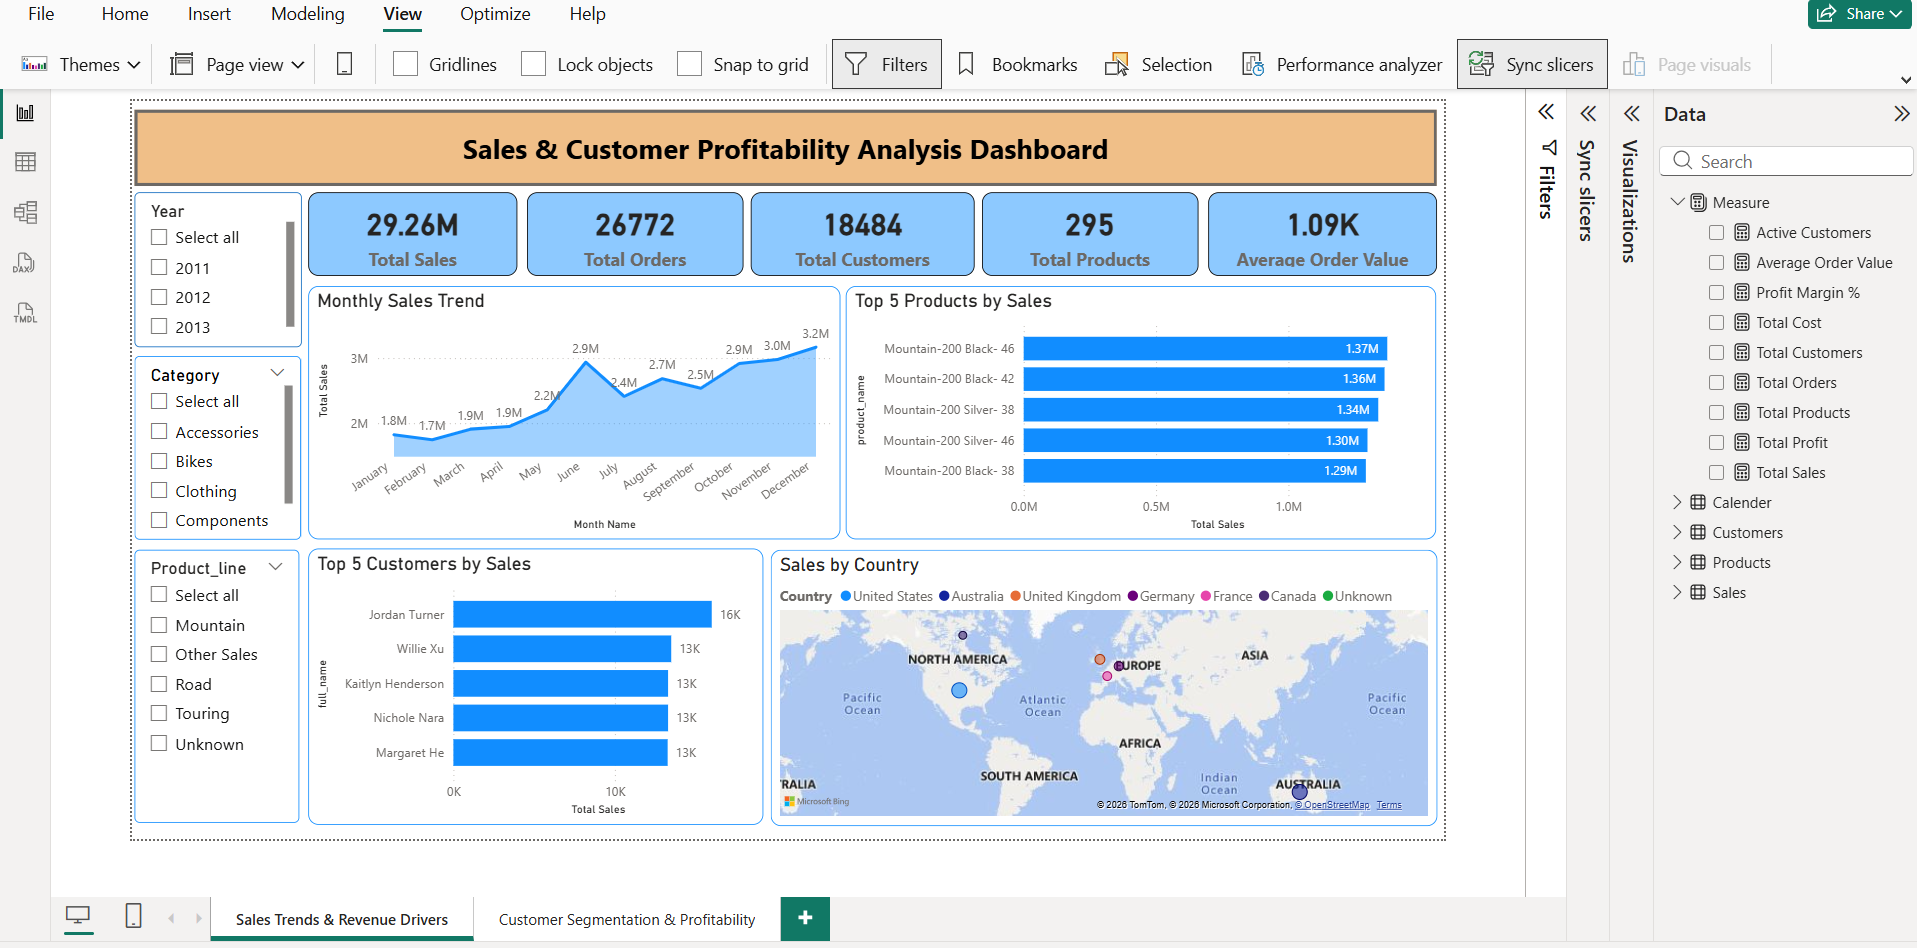

What the dashboard file says about the page in this screenshot:
{"tool":"powerbi","page":{"name":"Sales Trends & Revenue Drivers","canvas":[1280,720],"ordinal":0},"visuals":[{"type":"card","fields":{"Values":["Measure.Total Orders"]},"box":[401.1,84.4,193.2,85.6],"z":0},{"type":"card","fields":{"Values":["Measure.Total Products"]},"box":[1077.3,84.4,189.5,85.6],"z":1000},{"type":"card","fields":{"Values":["Measure.Total Sales"]},"box":[193.2,84.4,195.7,85.6],"z":2000},{"type":"card","fields":{"Values":["Measure.Average Order Value"]},"box":[606.5,83.2,253.1,85.6],"z":3000},{"type":"areaChart","title":"Monthly Sales Trend","fields":{"Category":["Calender.Month Name"],"Y":["Measure.Total Sales"]},"box":[188.3,436.6,564.9,271.5],"z":4000},{"type":"clusteredBarChart","title":"Top 5 Customers by Sales","fields":{"Category":["Customers.full_name"],"Y":["Measure.Total Sales"]},"box":[193.2,187.1,395,243.3],"z":5000},{"type":"columnChart","title":"Top 5 Products by Sales","fields":{"Category":["Products.product_name"],"Y":["Measure.Total Sales"]},"box":[930.6,187.1,333.8,243.3],"z":6000},{"type":"map","title":"Sales by Country","fields":{"Category":["Customers.Country"],"Size":["Measure.Total Sales"],"Series":["Customers.Country"]},"box":[758.2,435.3,506.3,272.7],"z":7000},{"type":"slicer","fields":{"Values":["Calender.Year"]},"box":[13.5,83.2,167.5,159],"z":8000},{"type":"slicer","fields":{"Values":["Products.category"]},"box":[13.5,250.7,167.5,179.8],"z":9000},{"type":"slicer","fields":{"Values":["Products.product_line"]},"box":[13.5,439,167.5,266.6],"z":10000},{"type":"card","fields":{"Values":["Measure.Total Customers"]},"box":[875.5,84.4,187.1,85.6],"z":11000},{"type":"actionButton","box":[13.5,11,1252.2,67.3],"z":12000},{"type":"donutChart","title":"Sales by Product line","fields":{"Y":["Measure.Total Sales"],"Category":["Products.product_line"]},"box":[594.3,187.1,327.7,243.3],"z":13000}]}

Visuals, with their boxes on the page's 1280x720 design canvas (x1, y1, x2, y2). These are canvas units, not pixel positions in the 1917x948 screenshot, which may show the page scaled, cropped or inside an application window:
card - Measure.Total Orders: (401,84,594,170)
card - Measure.Total Products: (1077,84,1267,170)
card - Measure.Total Sales: (193,84,389,170)
card - Measure.Average Order Value: (606,83,860,169)
"Monthly Sales Trend" areaChart: (188,437,753,708)
"Top 5 Customers by Sales" clusteredBarChart: (193,187,588,430)
"Top 5 Products by Sales" columnChart: (931,187,1264,430)
"Sales by Country" map: (758,435,1264,708)
slicer - Calender.Year: (14,83,181,242)
slicer - Products.category: (14,251,181,430)
slicer - Products.product_line: (14,439,181,706)
card - Measure.Total Customers: (876,84,1063,170)
actionButton: (14,11,1266,78)
"Sales by Product line" donutChart: (594,187,922,430)
